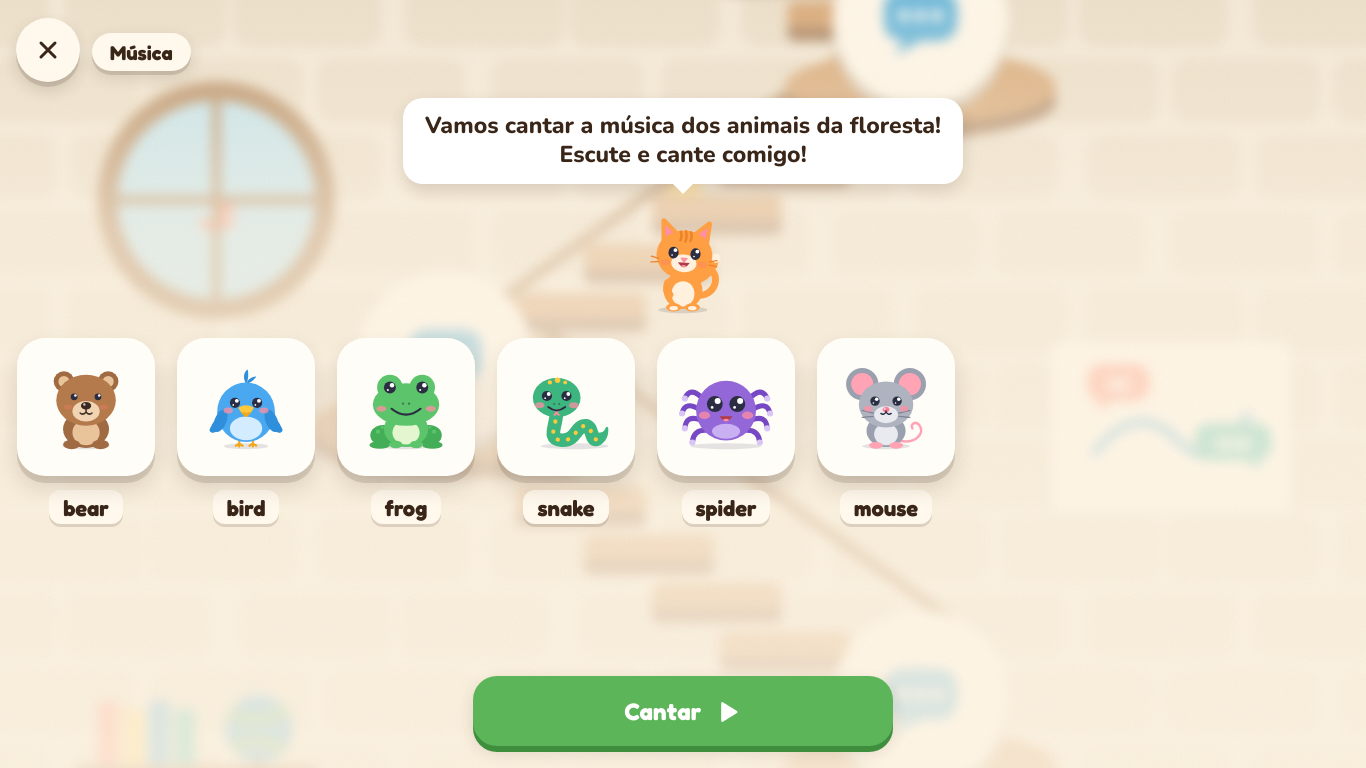
Scenario: SongStop › falls back when play() is rejected
The image size is (1366, 768).
Click the button "Cantar" at (683, 711), box [473, 676, 893, 746]
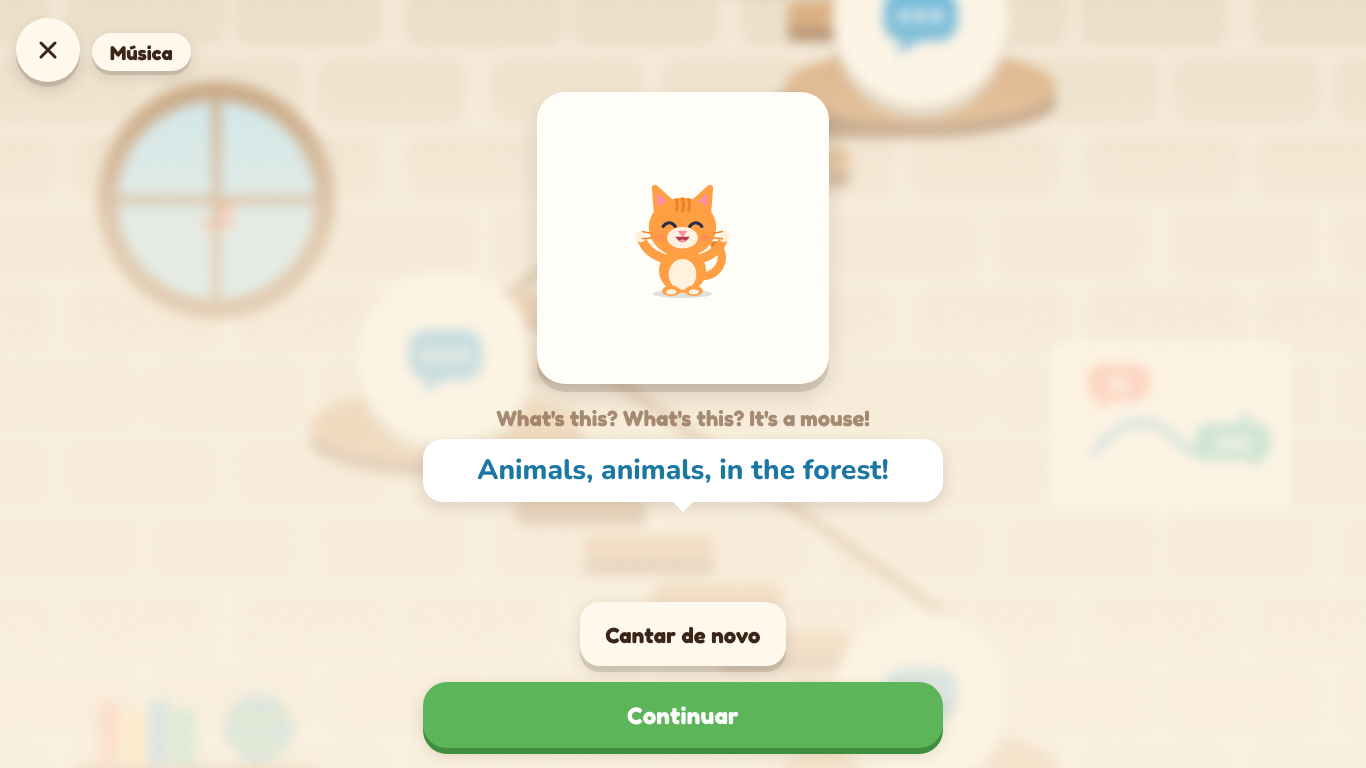
expect the button "Continuar" is shown: met, box [423, 682, 943, 748]
